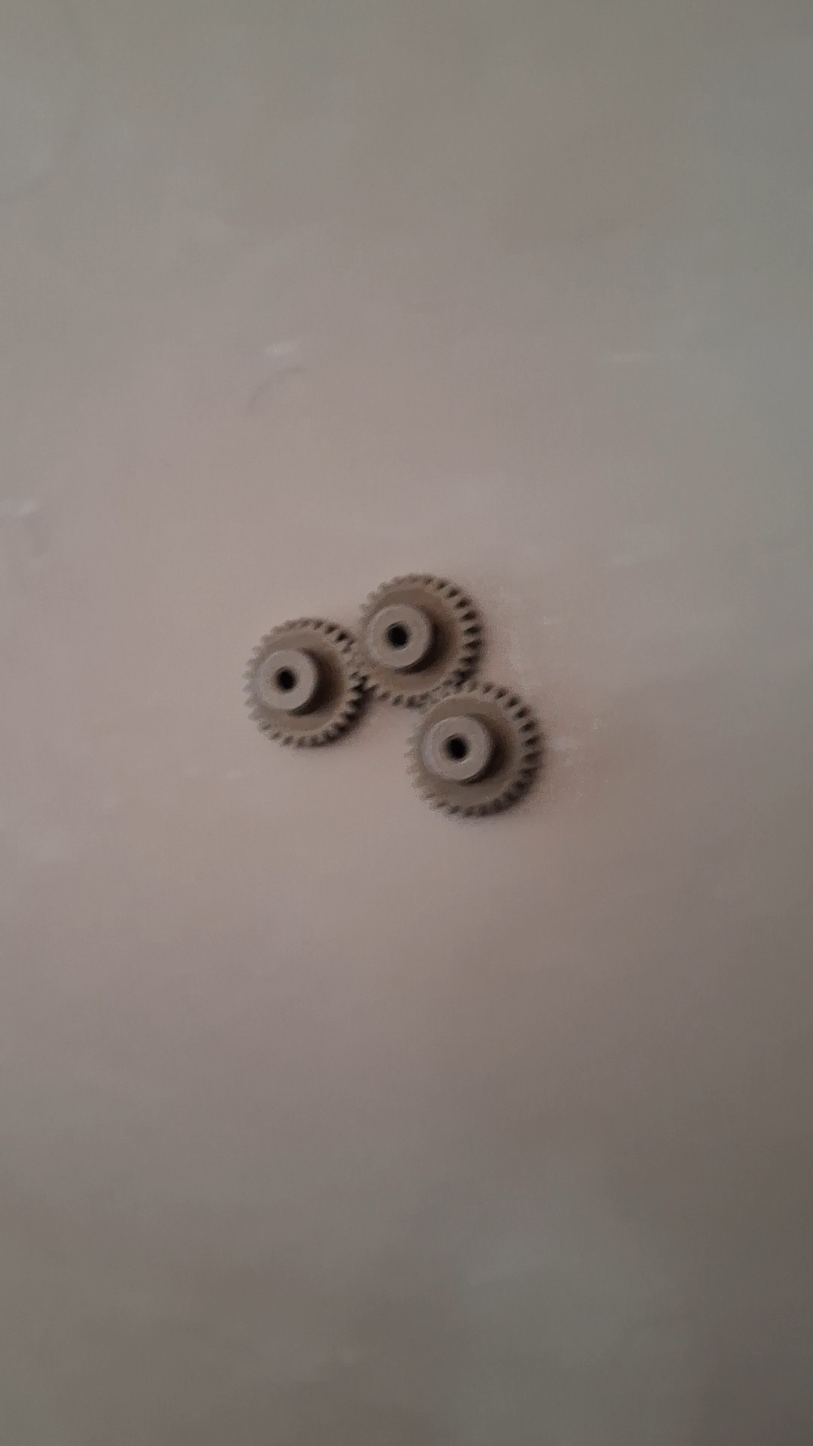spur gear: (408, 681, 542, 816), (356, 575, 481, 706), (245, 619, 363, 746)
